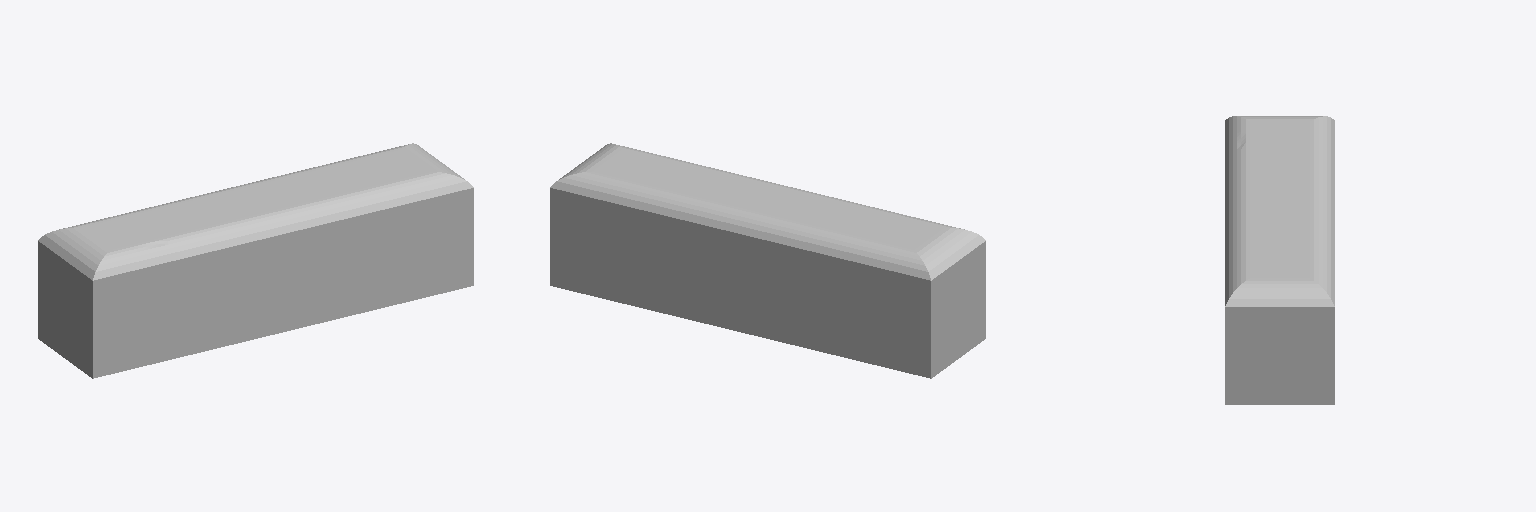
Rendered from RefectorySimple.obj.
The picture shows the model from 3 angles: view 1: azimuth 30°, elevation 25°; view 2: azimuth 150°, elevation 25°; view 3: azimuth 270°, elevation 25°; orthographic projection.
Visible parts, largest first — view 1: Plane_Plane.001; view 2: Plane_Plane.001; view 3: Plane_Plane.001.
Boxes of the visible parts, x1=… form: Plane_Plane.001: x1=38, y1=143, x2=473, y2=378; Plane_Plane.001: x1=550, y1=143, x2=985, y2=378; Plane_Plane.001: x1=1225, y1=116, x2=1334, y2=404.
Bounding box in the file's own units: 35.6 × 10 × 8.9.